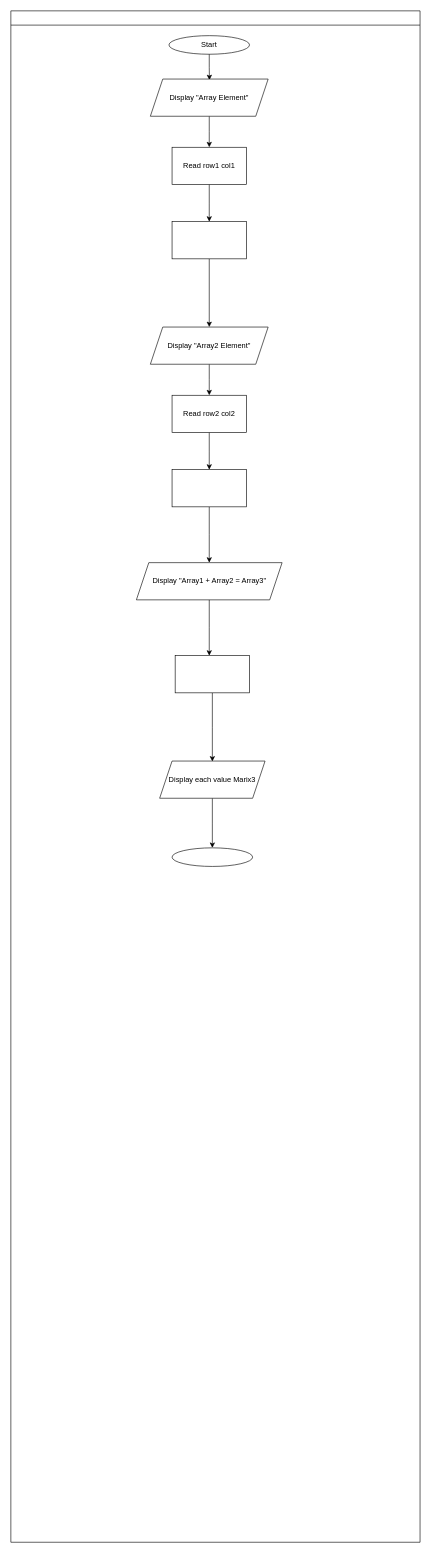
Some shapes in this 431 by 1553 pixel diagram are drawn without their labels. The centre of each missing label's shape, as x and y in pixels:
End: (x=212, y=856)
Matrix1 + Matrix2 then output in Matrix3: (x=212, y=674)
Read value store each value in Matrix1: (x=208, y=240)
Read value store each value in Matrix2: (x=208, y=488)
